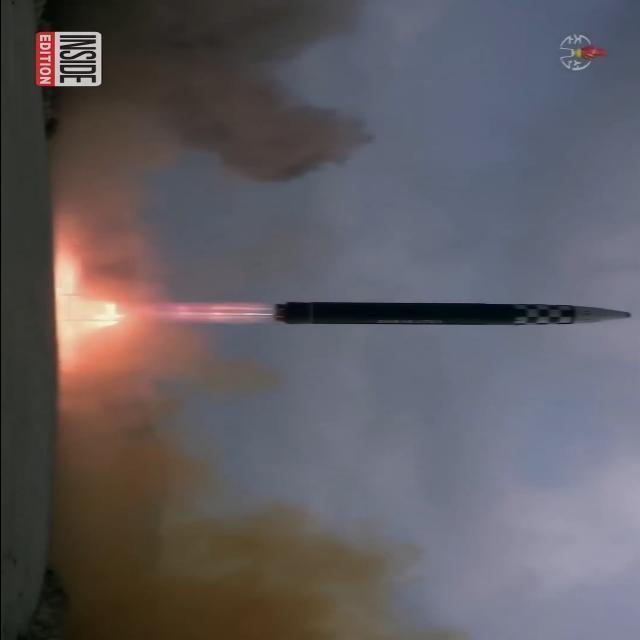missile: (272, 293, 632, 335)
